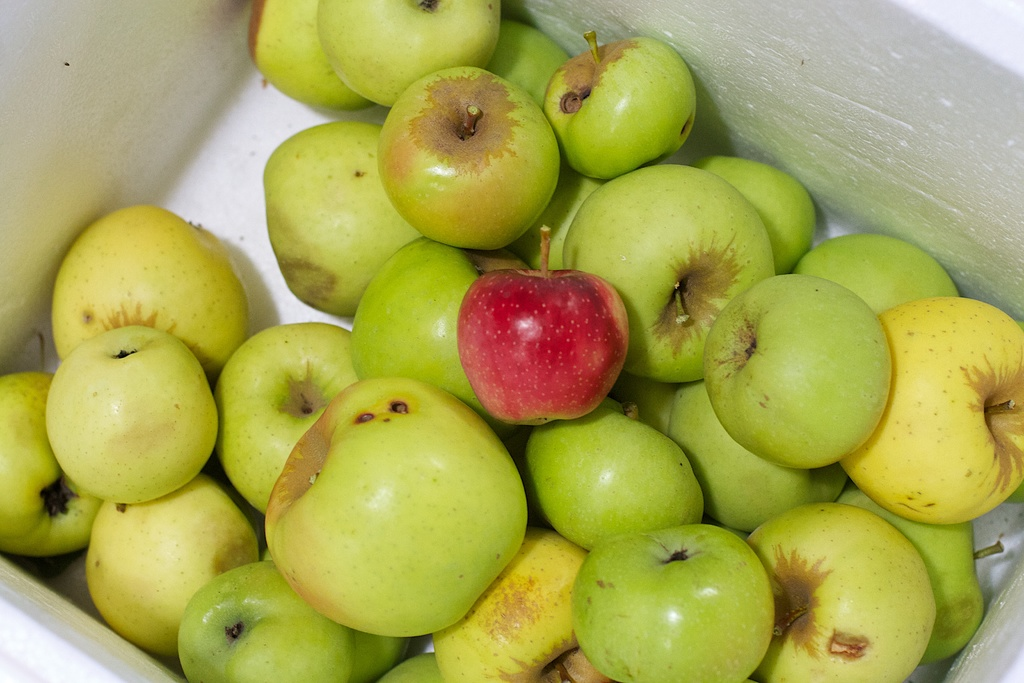Apple: (0, 0, 1023, 682), (455, 259, 628, 432)
